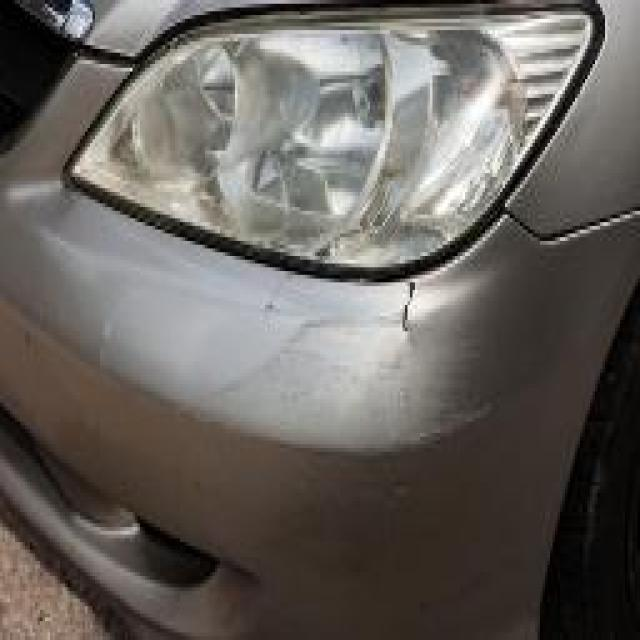Bumper: (198, 248, 517, 537)
